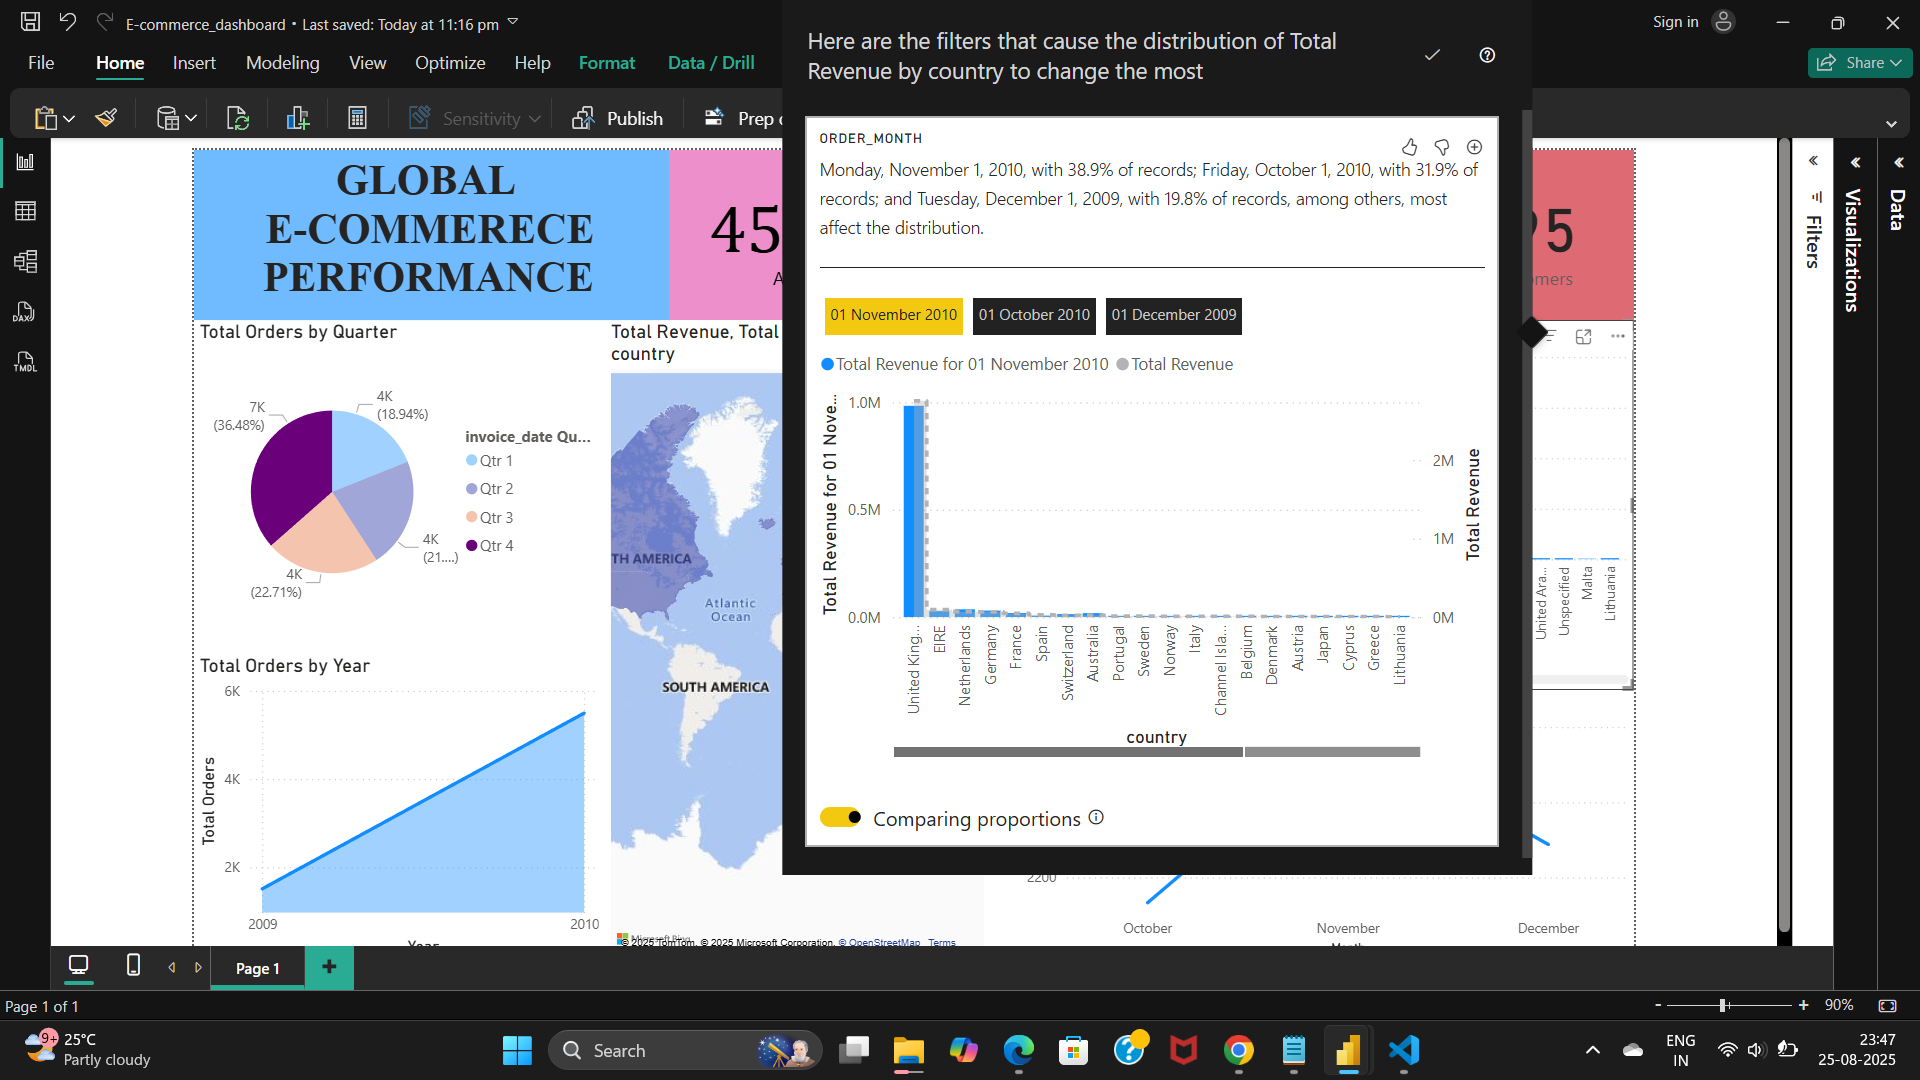

This screenshot's page, from the dashboard's own definition file:
{"tool":"powerbi","page":{"name":"Page 1","canvas":[1280,720],"ordinal":0},"visuals":[{"type":"card","fields":{"Values":["online_retail_cleaned.Total Revenue"]},"box":[639.5,0,216.8,150.9],"z":0},{"type":"card","fields":{"Values":["online_retail_cleaned.Total Orders"]},"box":[856.3,0,203.1,150.9],"z":1000},{"type":"card","fields":{"Values":["online_retail_cleaned.Total Customers"]},"box":[1059.4,0,220.9,150.9],"z":2000},{"type":"card","fields":{"Values":["online_retail_cleaned.AOV"]},"box":[422.6,0,216.8,150.9],"z":3000},{"type":"lineChart","fields":{"Category":["online_retail_cleaned.invoice_date.Variation.Date Hierarchy.Month"],"Y":["online_retail_cleaned.Total Orders"]},"box":[717.7,480.3,562.6,240.1],"z":4000},{"type":"pieChart","fields":{"Y":["online_retail_cleaned.Total Orders"],"Category":["online_retail_cleaned.invoice_date.Variation.Date Hierarchy.Quarter"]},"box":[0,150.9,365,286.8],"z":5000},{"type":"columnChart","fields":{"Y":["online_retail_cleaned.Total Revenue"],"Category":["online_retail_cleaned.country"]},"box":[717.7,150.9,562.6,329.3],"z":6000},{"type":"areaChart","fields":{"Category":["online_retail_cleaned.invoice_date.Variation.Date Hierarchy.Year","online_retail_cleaned.invoice_date.Variation.Date Hierarchy.Quarter","online_retail_cleaned.invoice_date.Variation.Date Hierarchy.Month","online_retail_cleaned.invoice_date.Variation.Date Hierarchy.Day"],"Y":["online_retail_cleaned.Total Orders"]},"box":[0,447.3,365,273.1],"z":7000},{"type":"filledMap","fields":{"Category":["online_retail_cleaned.country"]},"box":[365,150.9,341.7,569.5],"z":8000},{"type":"textbox","box":[0,0,422.6,150.9],"z":9000}]}

Visuals, with their boxes on the page's 1280x720 design canvas (x1, y1, x2, y2). These are canvas units, not pixel positions in the 1920x1080 screenshot, which may show the page scaled, cropped or inside an application window:
card - online_retail_cleaned.Total Revenue: (x1=640, y1=0, x2=856, y2=151)
card - online_retail_cleaned.Total Orders: (x1=856, y1=0, x2=1059, y2=151)
card - online_retail_cleaned.Total Customers: (x1=1059, y1=0, x2=1280, y2=151)
card - online_retail_cleaned.AOV: (x1=423, y1=0, x2=639, y2=151)
lineChart - online_retail_cleaned.invoice_date.Variation.Date Hierarchy.Month x online_retail_cleaned.Total Orders: (x1=718, y1=480, x2=1280, y2=720)
pieChart - online_retail_cleaned.Total Orders x online_retail_cleaned.invoice_date.Variation.Date Hierarchy.Quarter: (x1=0, y1=151, x2=365, y2=438)
columnChart - online_retail_cleaned.Total Revenue x online_retail_cleaned.country: (x1=718, y1=151, x2=1280, y2=480)
areaChart - online_retail_cleaned.invoice_date.Variation.Date Hierarchy.Year x online_retail_cleaned.invoice_date.Variation.Date Hierarchy.Quarter: (x1=0, y1=447, x2=365, y2=720)
filledMap - online_retail_cleaned.country: (x1=365, y1=151, x2=707, y2=720)
textbox: (x1=0, y1=0, x2=423, y2=151)
